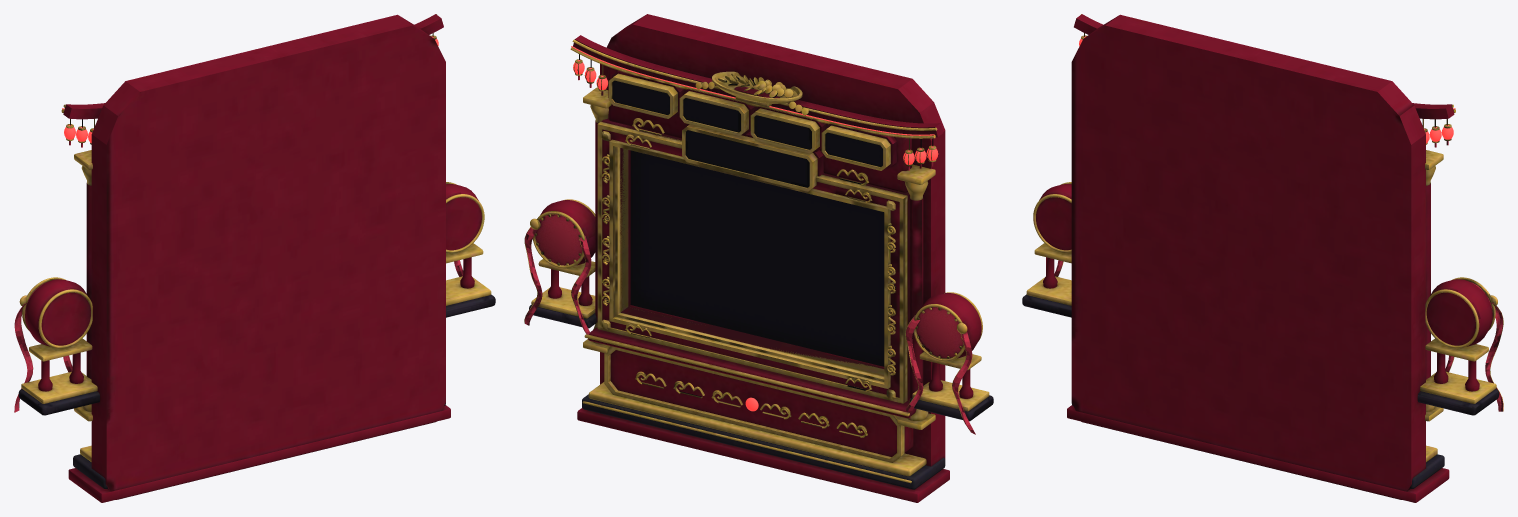
The picture shows the model from 3 angles, left to right: view 1: azimuth 30°, elevation 25°; view 2: azimuth 150°, elevation 25°; view 3: azimuth 330°, elevation 25°; orthographic projection. The views are drawn at different scales.
Visible parts, largest first — view 1: Ruby_lacquer, Palace_gold, Foundation_slate, Festival_silk; view 2: Ruby_lacquer, Display_enamel, Palace_gold, Festival_silk, Foundation_slate, Festival_ruby_glow; view 3: Ruby_lacquer, Palace_gold, Foundation_slate, Festival_silk.
Boxes of the visible parts, box(x1,y1,x2,y2) form: Ruby_lacquer: box(25, 14, 481, 502); Palace_gold: box(19, 14, 491, 461); Foundation_slate: box(18, 294, 495, 488); Festival_silk: box(14, 141, 463, 412); Ruby_lacquer: box(540, 14, 981, 502); Display_enamel: box(612, 80, 884, 366); Palace_gold: box(524, 39, 989, 483); Festival_silk: box(524, 76, 975, 434); Foundation_slate: box(529, 305, 993, 489); Festival_ruby_glow: box(571, 46, 938, 411); Ruby_lacquer: box(1036, 14, 1492, 502); Palace_gold: box(1026, 14, 1503, 462); Foundation_slate: box(1022, 294, 1498, 488); Festival_silk: box(1054, 141, 1503, 411).
Size of the model in its own units: 11.56 by 9.6 by 1.58.
Materials: 6 (5 with a texture image).
